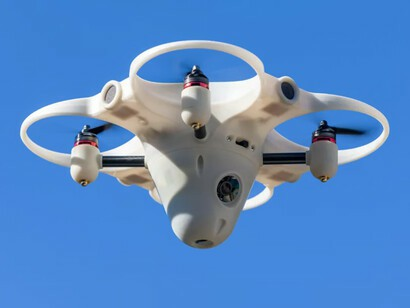maybay_khongnguoilai: (34, 39, 386, 252)
